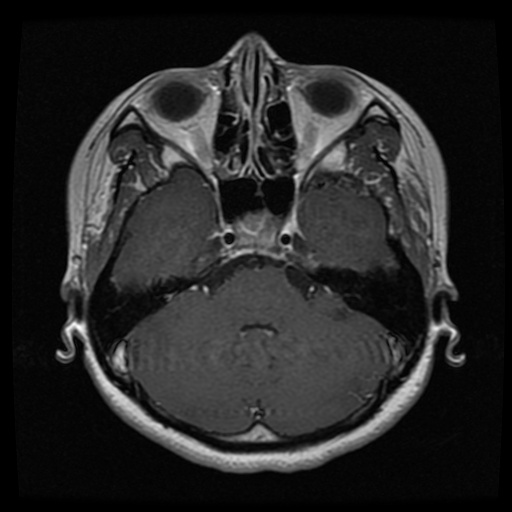pituitary: (235, 209, 279, 249)
